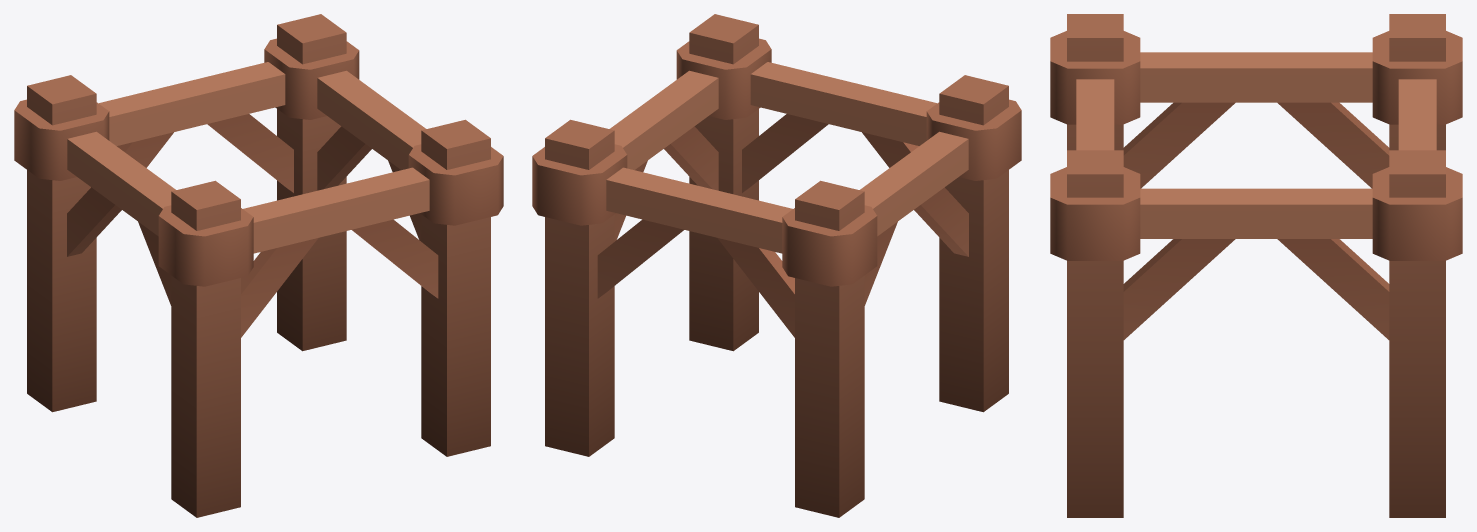
Rendered from wood-structure.glb.
3 renders of one model, left to right at view 1: azimuth 30°, elevation 25°; view 2: azimuth 150°, elevation 25°; view 3: azimuth 270°, elevation 25°, orthographic. The views are drawn at different scales.
Parts seen in each view (by area): view 1: wood-structure; view 2: wood-structure; view 3: wood-structure.
Boxes of the visible parts, x1=… form: wood-structure: x1=14, y1=14, x2=503, y2=517; wood-structure: x1=532, y1=14, x2=1021, y2=517; wood-structure: x1=1050, y1=14, x2=1462, y2=517.
Size of the model in its own units: 3.26 by 3 by 3.26.
